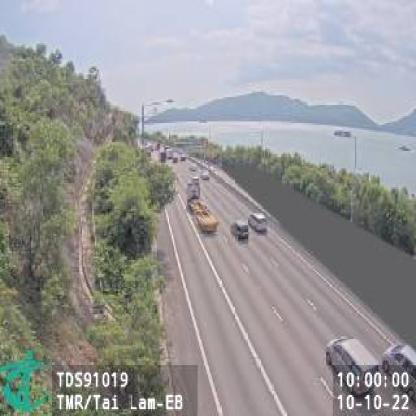Car: (326, 334, 382, 402), (382, 340, 416, 398), (248, 210, 268, 231), (230, 220, 248, 239)
Truck: (187, 178, 222, 234)
